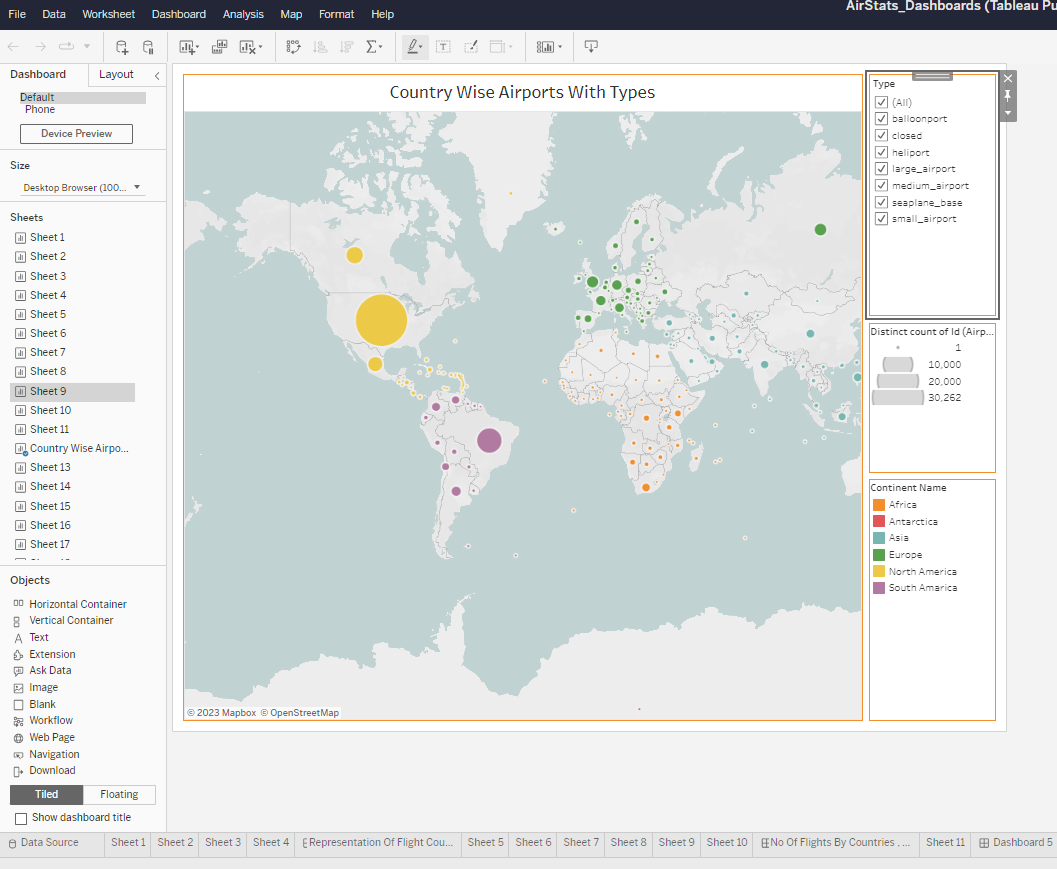

Layout of this report page (visuals, bound fields, positions):
{"tool":"tableau","page":{"name":"Dashboard 3","canvas":[1000,800],"ordinal":0},"visuals":[{"type":"worksheet","title":"Country Wise Airports With Types","mark":"Automatic","box":[8,8,824,784]},{"type":"filter","title":"Country Wise Airports With Types","param":"[federated.1s1gakv1chf7ci1a48s9z1sl9pf5].[none:type:nk]","box":[832,8,160,298]},{"type":"legend","title":"Country Wise Airports With Types","param":"[federated.1s1gakv1chf7ci1a48s9z1sl9pf5].[ctd:id (airports.csv):qk]","box":[832,306,160,188]},{"type":"legend","title":"Country Wise Airports With Types","param":"[federated.1s1gakv1chf7ci1a48s9z1sl9pf5].[none:Calculation_2221682034224218112:n","box":[832,494,160,298]}]}

Visuals, with their boxes on the page's 1000x800 design canvas (x1, y1, x2, y2). These are canvas units, not pixel positions in the 1057x869 screenshot, which may show the page scaled, cropped or inside an application window:
"Country Wise Airports With Types" worksheet: crop(8, 8, 832, 792)
"Country Wise Airports With Types" filter: crop(832, 8, 992, 306)
"Country Wise Airports With Types" legend: crop(832, 306, 992, 494)
"Country Wise Airports With Types" legend: crop(832, 494, 992, 792)
